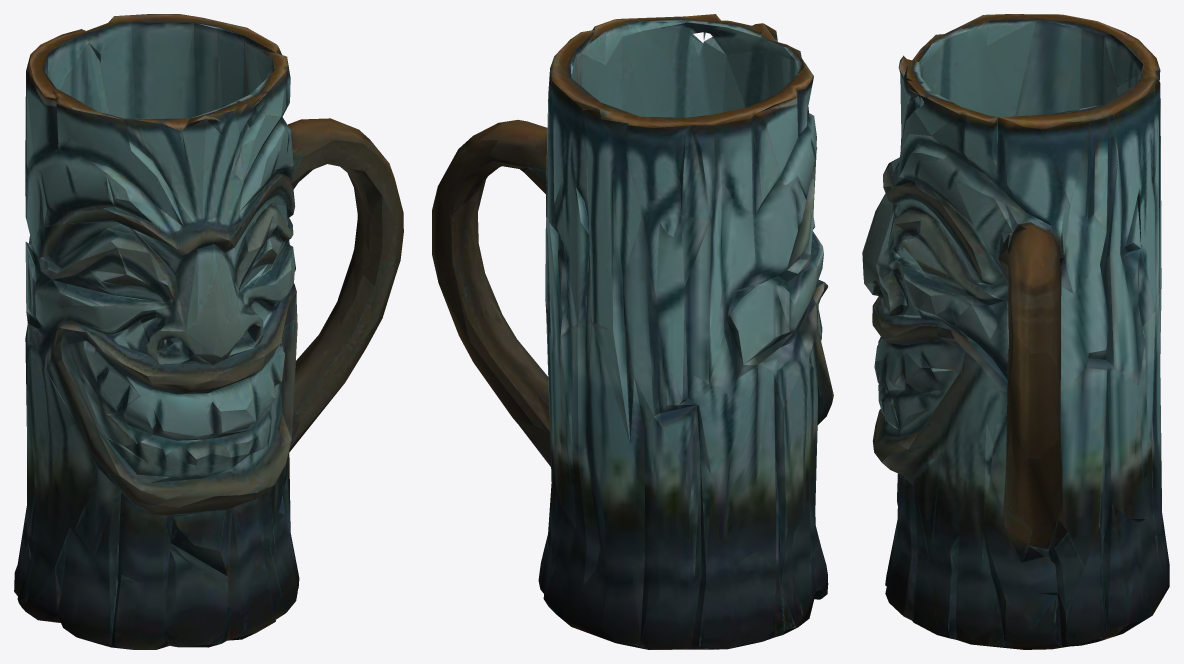
File: tiki-mug.glb
3 views of the same model, side by side, from view 1: azimuth 30°, elevation 25°; view 2: azimuth 150°, elevation 25°; view 3: azimuth 270°, elevation 25° (orthographic).
Parts seen in each view (by area): view 1: output_unwrapped; view 2: output_unwrapped; view 3: output_unwrapped.
Boxes of the visible parts, <box> form: output_unwrapped: <box>14,14,403,649</box>; output_unwrapped: <box>432,14,833,649</box>; output_unwrapped: <box>862,14,1169,649</box>.
Size of the model in its own units: 1.39 by 1.89 by 1.
Materials: 1 (1 with a texture image).
